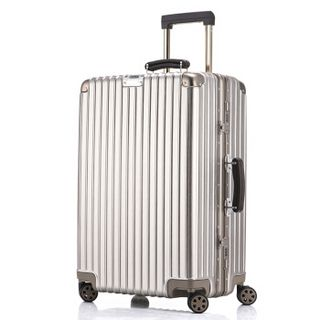luggage: (74, 9, 261, 315)
